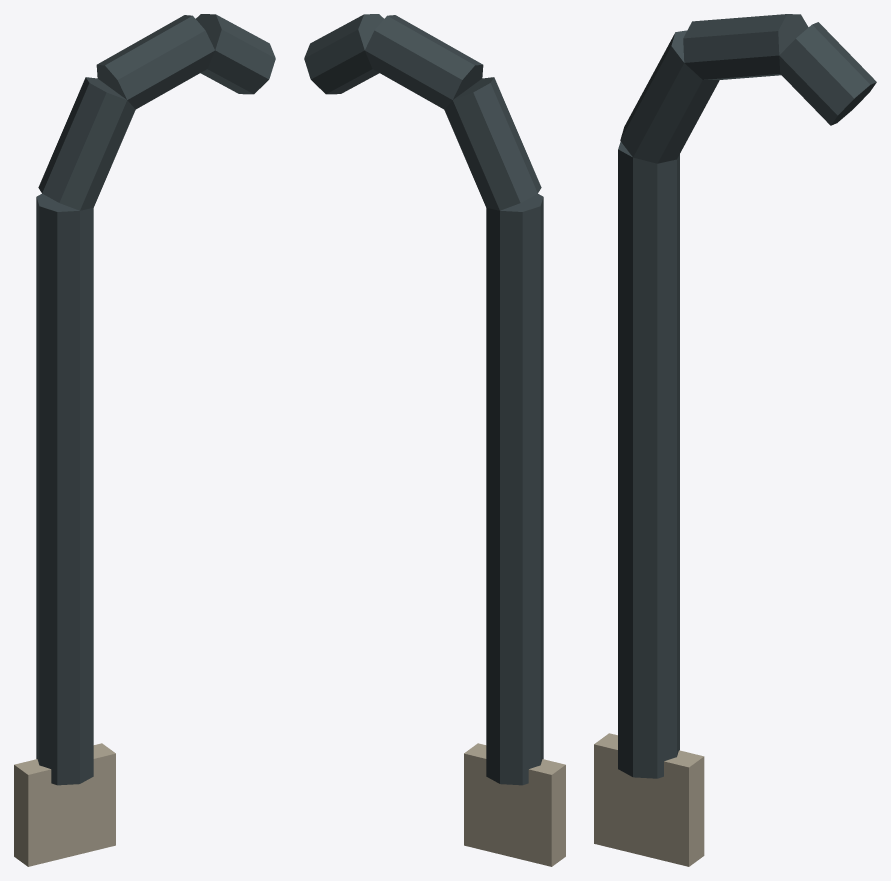
Rendered from Equip_Crowbar.fbx.
The picture shows the model from 3 angles, left to right: view 1: azimuth 30°, elevation 25°; view 2: azimuth 150°, elevation 25°; view 3: azimuth 330°, elevation 25°; orthographic projection. The views are drawn at different scales.
Visible parts, largest first — view 1: Equip_Crowbar; view 2: Equip_Crowbar; view 3: Equip_Crowbar.
Boxes of the visible parts, box(x1,y1,x2,y2) form: Equip_Crowbar: box(14, 14, 275, 866); Equip_Crowbar: box(304, 14, 565, 866); Equip_Crowbar: box(594, 14, 876, 866).
Bounding box in the file's own units: 0.3678 × 1.14 × 0.076.
